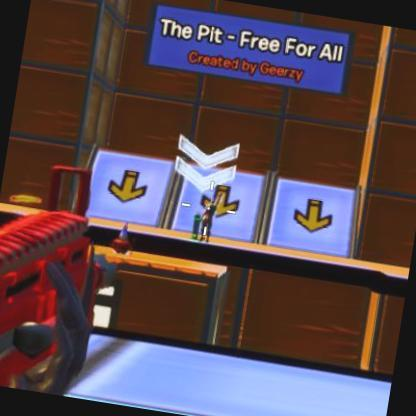person: (198, 203, 216, 239)
